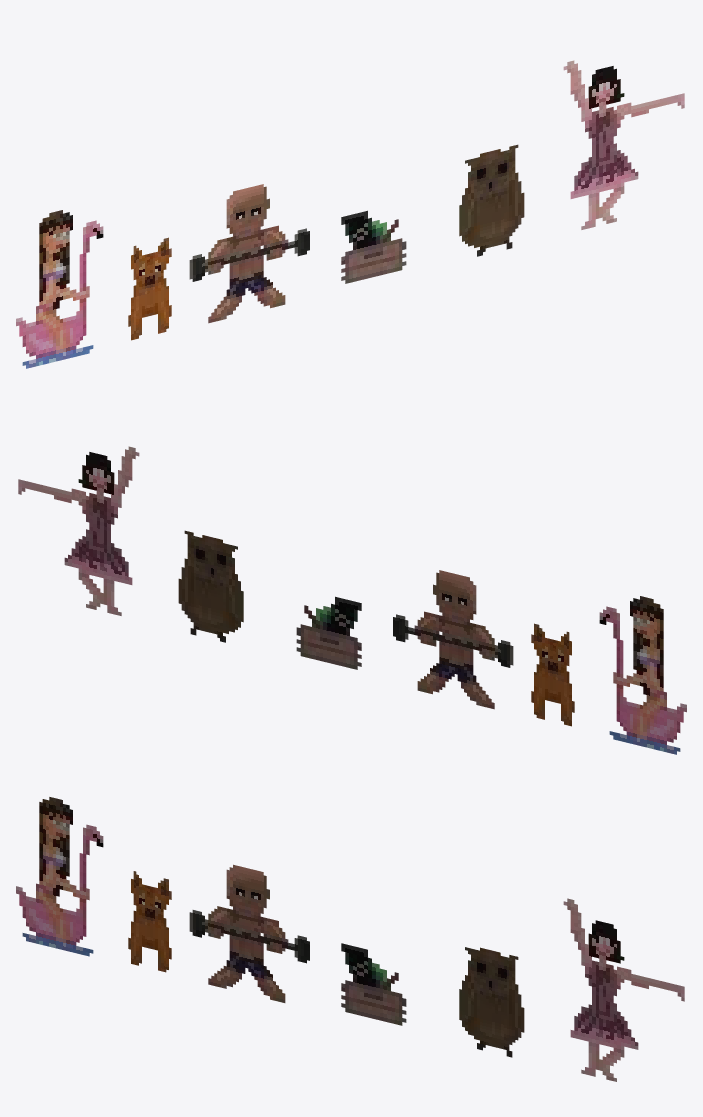
File: characters.glb
3 views of the same model, one above another, from view 1: azimuth 30°, elevation 25°; view 2: azimuth 150°, elevation 25°; view 3: azimuth 330°, elevation 25° (orthographic).
Parts seen in each view (by area): view 1: Gym Bro, Pool, Box.002, Box.001, Box, Doggie; view 2: Gym Bro, Pool, Box.002, Box.001, Box, Doggie; view 3: Gym Bro, Pool, Box.002, Box.001, Box, Doggie.
Boxes of the visible parts, left/top/right/bottom form: Gym Bro: left=189, top=184, right=309, bottom=323; Pool: left=16, top=210, right=103, bottom=368; Box.002: left=563, top=60, right=684, bottom=229; Box.001: left=459, top=144, right=524, bottom=256; Box: left=341, top=210, right=406, bottom=283; Doggie: left=128, top=237, right=171, bottom=340; Gym Bro: left=393, top=570, right=513, bottom=709; Pool: left=599, top=596, right=686, bottom=754; Box.002: left=18, top=446, right=139, bottom=615; Box.001: left=178, top=530, right=243, bottom=642; Box: left=296, top=596, right=361, bottom=669; Doggie: left=531, top=623, right=574, bottom=726; Gym Bro: left=189, top=864, right=309, bottom=1002; Pool: left=16, top=797, right=103, bottom=956; Box.002: left=563, top=898, right=684, bottom=1081; Box.001: left=459, top=947, right=524, bottom=1057; Box: left=341, top=943, right=406, bottom=1025; Doggie: left=128, top=871, right=171, bottom=972.
Size of the model in its own units: 6.28 by 1.72 by 3.01e-07.
1 material, 1 textured.
